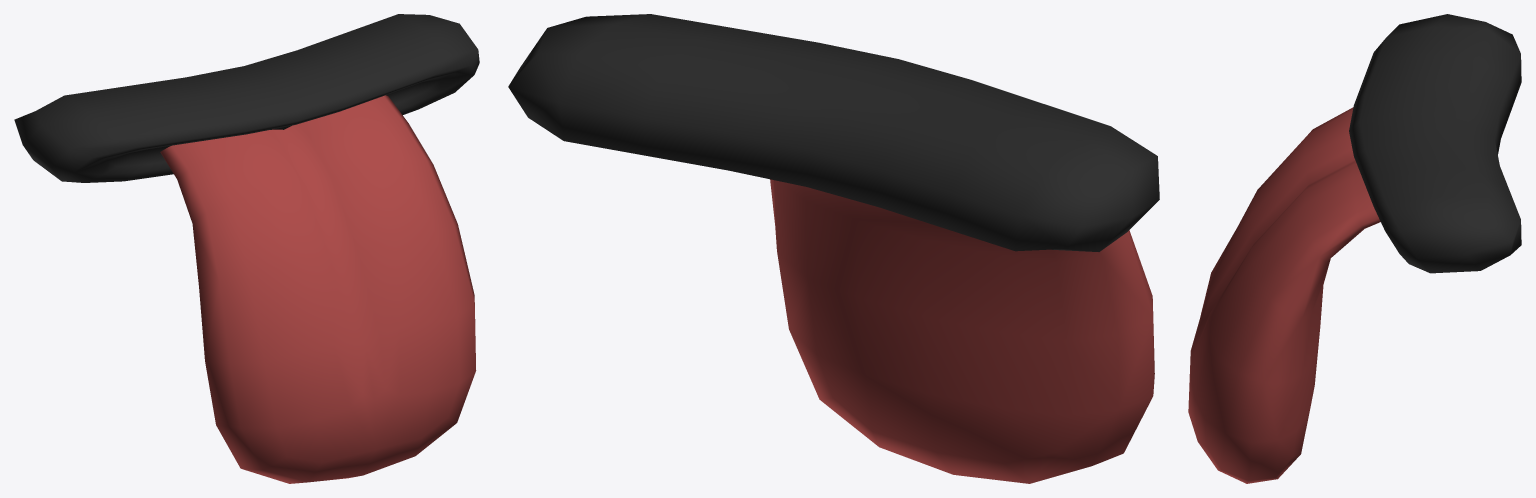
The picture shows the model from 3 angles, left to right: view 1: azimuth 30°, elevation 25°; view 2: azimuth 150°, elevation 25°; view 3: azimuth 270°, elevation 25°; orthographic projection. The views are drawn at different scales.
Parts seen in each view (by area): view 1: mouth_tongue_out; view 2: mouth_tongue_out; view 3: mouth_tongue_out.
Boxes of the visible parts, x1=… form: mouth_tongue_out: x1=14, y1=14, x2=479, y2=483; mouth_tongue_out: x1=508, y1=14, x2=1159, y2=483; mouth_tongue_out: x1=1188, y1=14, x2=1521, y2=483.
Bounding box in the file's own units: 0.3161 × 0.2346 × 0.2015.
